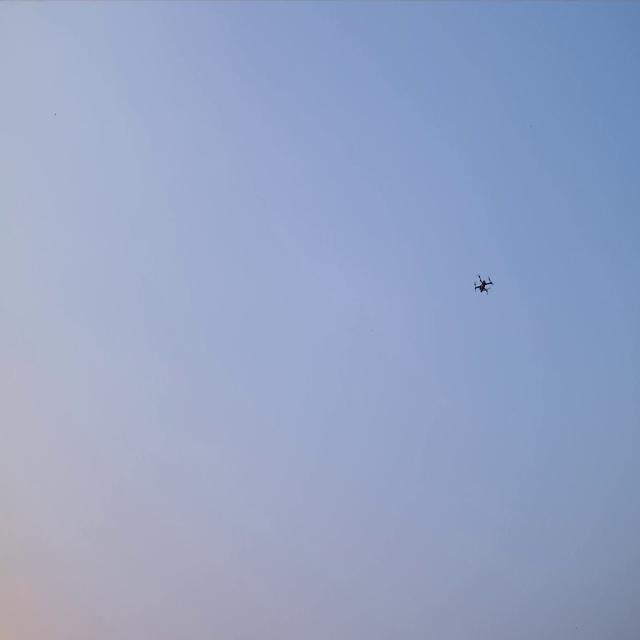UAV: (472, 272, 494, 295)
